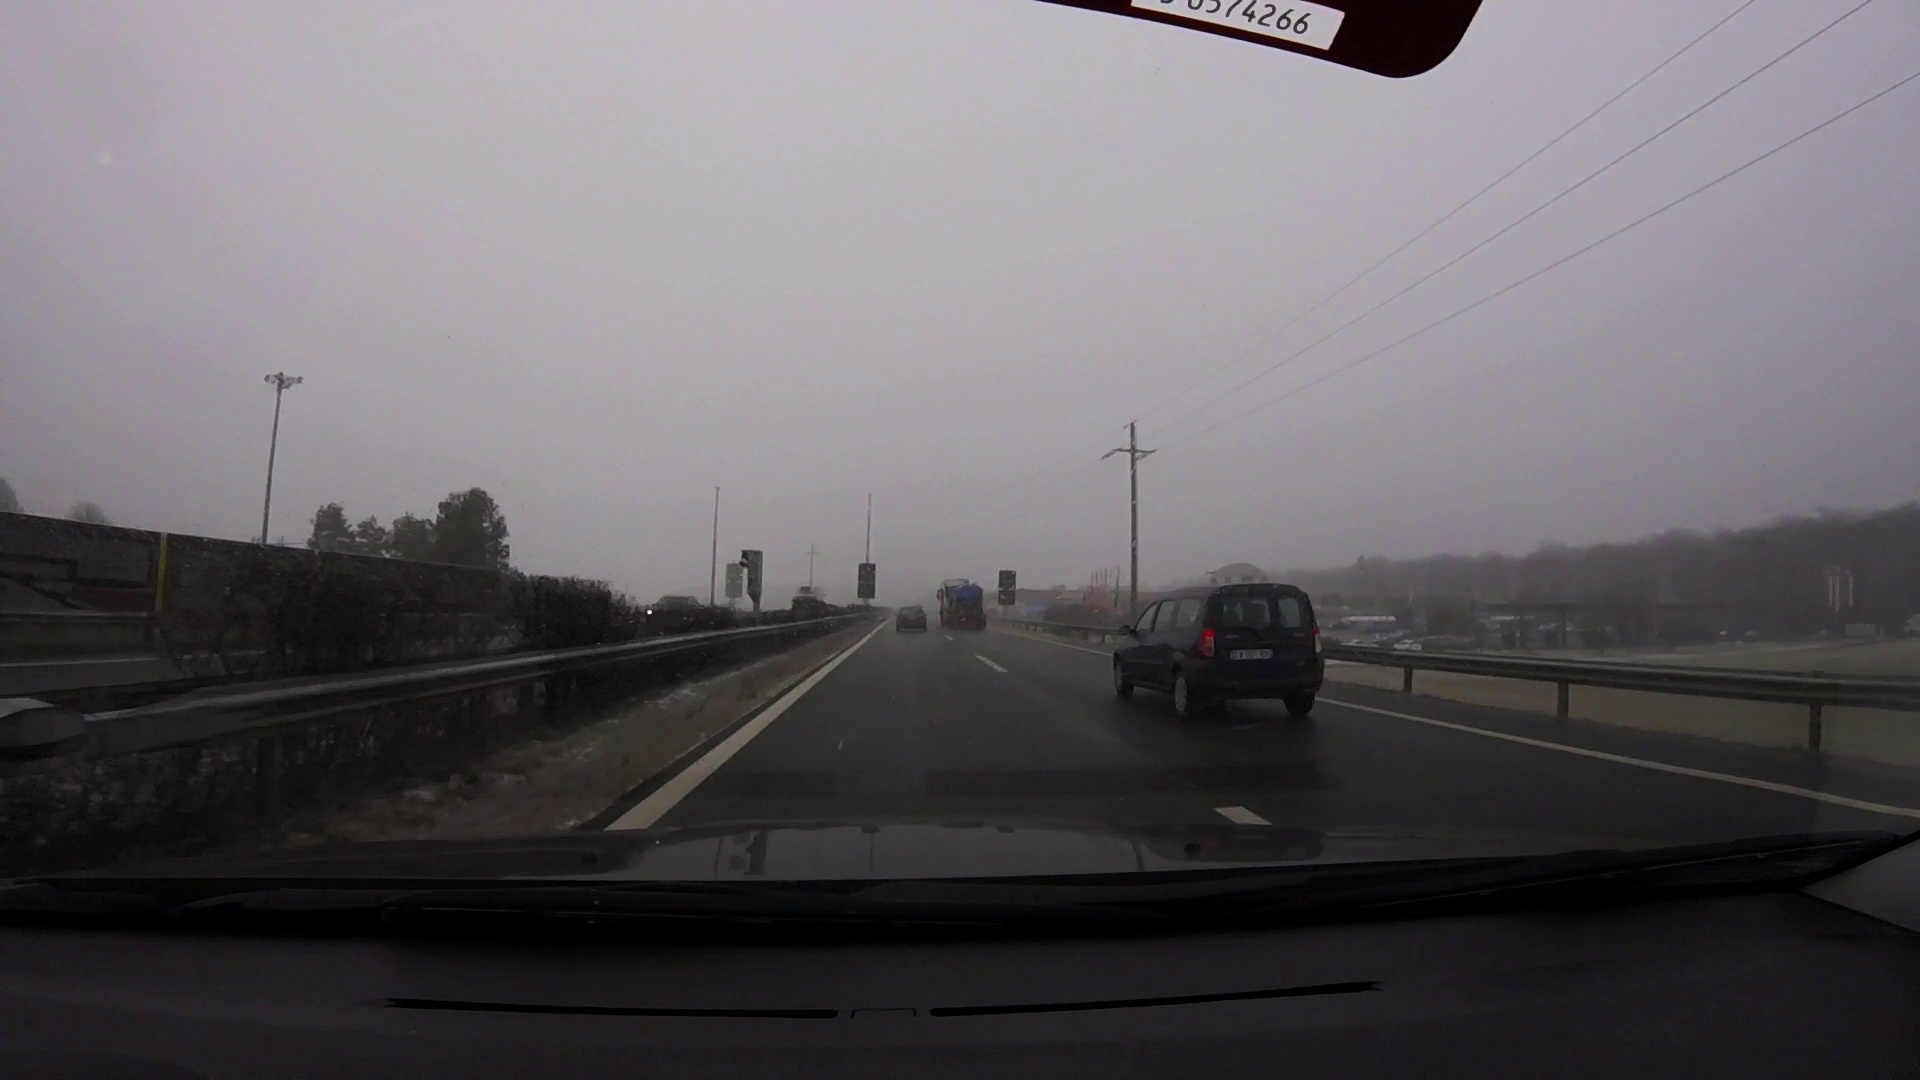radar: (737, 549, 766, 605)
